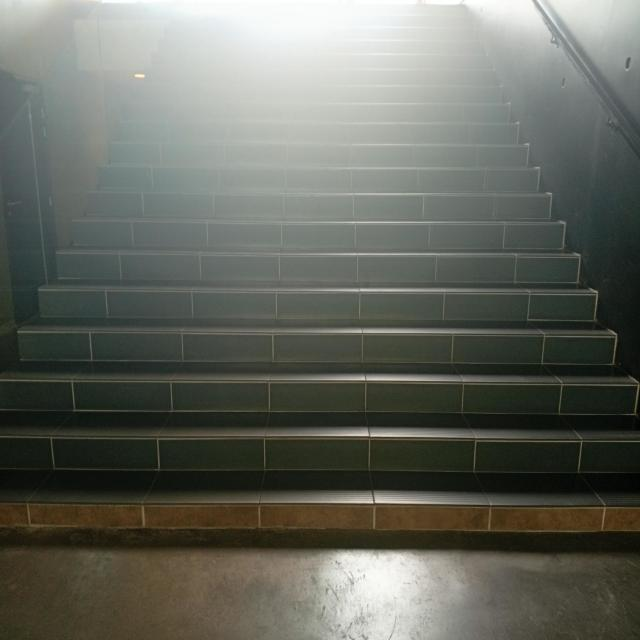Stairs: (0, 203, 640, 584)
